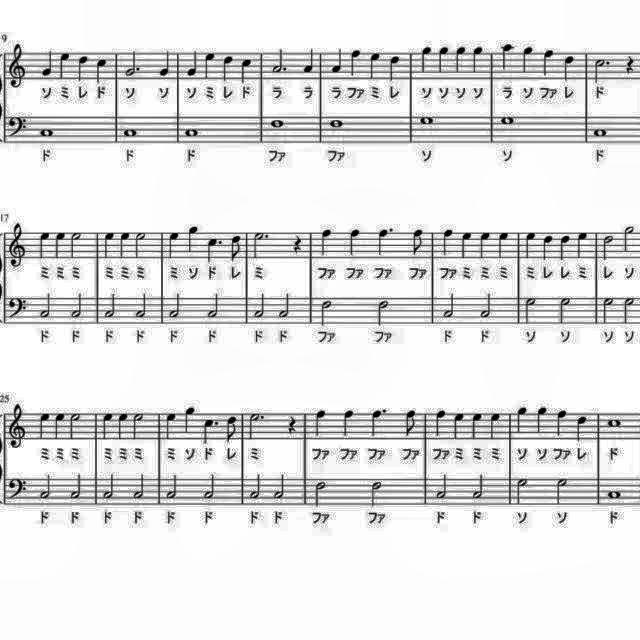Bass-clef: (5, 295, 31, 325), (6, 474, 30, 506), (6, 114, 30, 142)
Eighth-note: (400, 406, 420, 439), (409, 226, 427, 258), (221, 413, 239, 443), (228, 233, 244, 263)
Full-note: (604, 414, 624, 432), (606, 486, 626, 502), (590, 125, 610, 141), (326, 114, 346, 130), (182, 125, 202, 141), (268, 115, 288, 129), (36, 126, 56, 140), (120, 126, 140, 140), (496, 113, 516, 127), (416, 112, 436, 126)
Half-dot: (245, 408, 267, 442), (590, 55, 614, 85), (122, 47, 144, 79), (250, 229, 270, 261), (270, 48, 290, 76)
Half-note: (620, 221, 640, 255), (374, 296, 394, 328), (316, 296, 336, 328), (368, 476, 388, 508), (312, 477, 331, 509), (522, 294, 540, 326), (478, 290, 496, 322), (514, 475, 532, 507), (556, 293, 574, 325), (201, 472, 219, 504), (67, 410, 85, 442), (433, 471, 451, 502), (37, 471, 55, 502), (37, 290, 54, 322), (205, 288, 222, 320), (271, 472, 289, 502), (471, 472, 489, 502), (68, 472, 86, 502), (254, 288, 270, 320), (622, 294, 638, 326), (554, 476, 570, 508), (600, 294, 616, 326), (276, 290, 292, 322), (600, 230, 616, 262), (132, 410, 148, 442), (168, 291, 185, 321), (164, 472, 180, 503), (248, 471, 264, 502), (100, 472, 116, 503), (442, 291, 458, 321), (68, 291, 84, 321), (102, 291, 118, 321), (132, 472, 148, 502), (134, 289, 150, 319), (68, 230, 84, 260), (132, 232, 148, 260)
Quarter-dot: (367, 404, 389, 440), (375, 226, 397, 258), (204, 234, 224, 266), (200, 415, 220, 445)
Quarter-note: (338, 406, 358, 439), (316, 226, 336, 258), (310, 406, 330, 438), (385, 52, 403, 84), (439, 227, 457, 259), (345, 227, 363, 259), (163, 410, 181, 442), (364, 50, 382, 82), (430, 407, 448, 439), (493, 229, 511, 261), (560, 52, 578, 84), (552, 406, 570, 438), (497, 42, 515, 74), (487, 410, 505, 442), (572, 229, 590, 261), (450, 411, 468, 442), (218, 54, 235, 86), (183, 224, 200, 256), (37, 48, 54, 80), (458, 230, 474, 262), (36, 229, 52, 261), (348, 48, 364, 80), (74, 53, 90, 85), (114, 410, 130, 442), (542, 49, 558, 81), (520, 46, 536, 78), (36, 410, 52, 442), (57, 50, 73, 82), (100, 410, 116, 442), (572, 413, 588, 445), (202, 52, 218, 84), (532, 404, 548, 436), (54, 229, 70, 261), (181, 404, 197, 436), (101, 230, 117, 262), (468, 411, 484, 442), (238, 56, 255, 85), (556, 233, 572, 263), (478, 230, 494, 260), (158, 50, 174, 80), (116, 231, 132, 261), (514, 405, 530, 435), (418, 44, 434, 74), (538, 233, 554, 263), (522, 230, 538, 260), (166, 230, 182, 260), (452, 46, 468, 76), (468, 47, 484, 77), (94, 56, 110, 85), (328, 48, 344, 76), (53, 410, 67, 442), (184, 50, 200, 78), (302, 48, 316, 76), (436, 48, 450, 76)
Quarter-rest: (282, 412, 300, 438), (622, 54, 640, 78), (288, 231, 304, 257)
Treble-clef: (5, 219, 28, 269), (6, 41, 28, 91), (6, 401, 28, 451)
